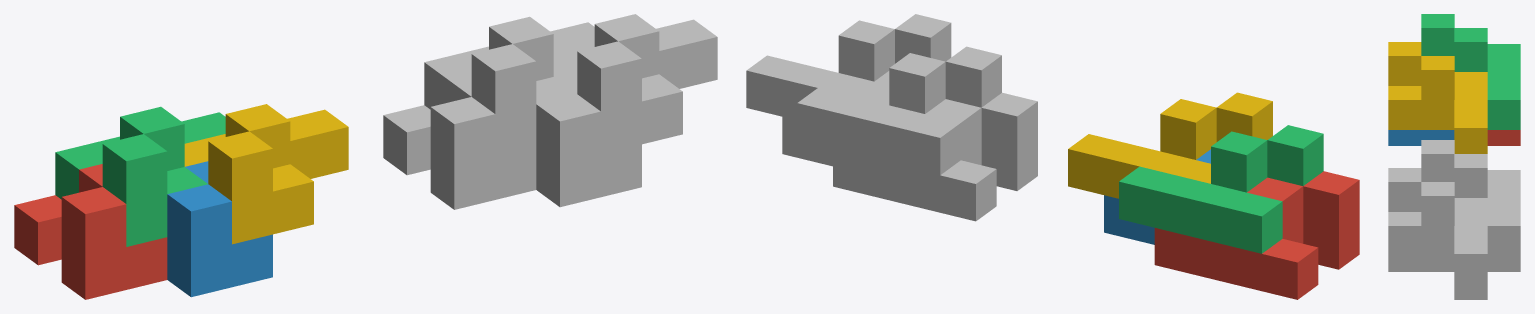
File: tiling.obj
3 renders of one model, left to right at view 1: azimuth 30°, elevation 25°; view 2: azimuth 150°, elevation 25°; view 3: azimuth 270°, elevation 25°, orthographic. The views are drawn at different scales.
Parts seen in each view (by area): view 1: copy_1_domain_4, copy_1_domain_8, copy_1_domain_5, copy_1_domain_1, copy_1_domain_7, copy_1_domain_3, copy_1_domain_6, copy_1_domain_2; view 2: copy_1_domain_3, copy_1_domain_7, copy_1_domain_1, copy_1_domain_5, copy_1_domain_8, copy_1_domain_4, copy_1_domain_6, copy_1_domain_2; view 3: copy_1_domain_8, copy_1_domain_4, copy_1_domain_3, copy_1_domain_7, copy_1_domain_6, copy_1_domain_2, copy_1_domain_1, copy_1_domain_5.
Boxes of the visible parts, bbox=[...] form: copy_1_domain_4: bbox=[184, 104, 348, 244]; copy_1_domain_8: bbox=[553, 14, 717, 154]; copy_1_domain_5: bbox=[383, 74, 536, 209]; copy_1_domain_1: bbox=[14, 164, 167, 299]; copy_1_domain_7: bbox=[424, 16, 594, 156]; copy_1_domain_3: bbox=[55, 106, 225, 246]; copy_1_domain_6: bbox=[536, 71, 641, 207]; copy_1_domain_2: bbox=[167, 161, 272, 297]; copy_1_domain_3: bbox=[1119, 125, 1323, 253]; copy_1_domain_7: bbox=[797, 46, 1001, 175]; copy_1_domain_1: bbox=[1154, 171, 1359, 299]; copy_1_domain_5: bbox=[833, 92, 1037, 221]; copy_1_domain_8: bbox=[746, 14, 951, 120]; copy_1_domain_4: bbox=[1068, 92, 1272, 198]; copy_1_domain_6: bbox=[782, 71, 889, 166]; copy_1_domain_2: bbox=[1104, 149, 1210, 244]; copy_1_domain_8: bbox=[1388, 168, 1487, 283]; copy_1_domain_4: bbox=[1388, 42, 1487, 153]; copy_1_domain_3: bbox=[1421, 14, 1520, 129]; copy_1_domain_7: bbox=[1421, 140, 1520, 255]; copy_1_domain_6: bbox=[1388, 256, 1487, 299]; copy_1_domain_2: bbox=[1388, 130, 1454, 145]; copy_1_domain_1: bbox=[1487, 130, 1520, 145]; copy_1_domain_5: bbox=[1487, 256, 1520, 271].
Bounding box in the file's own units: 16 × 3 × 4.
